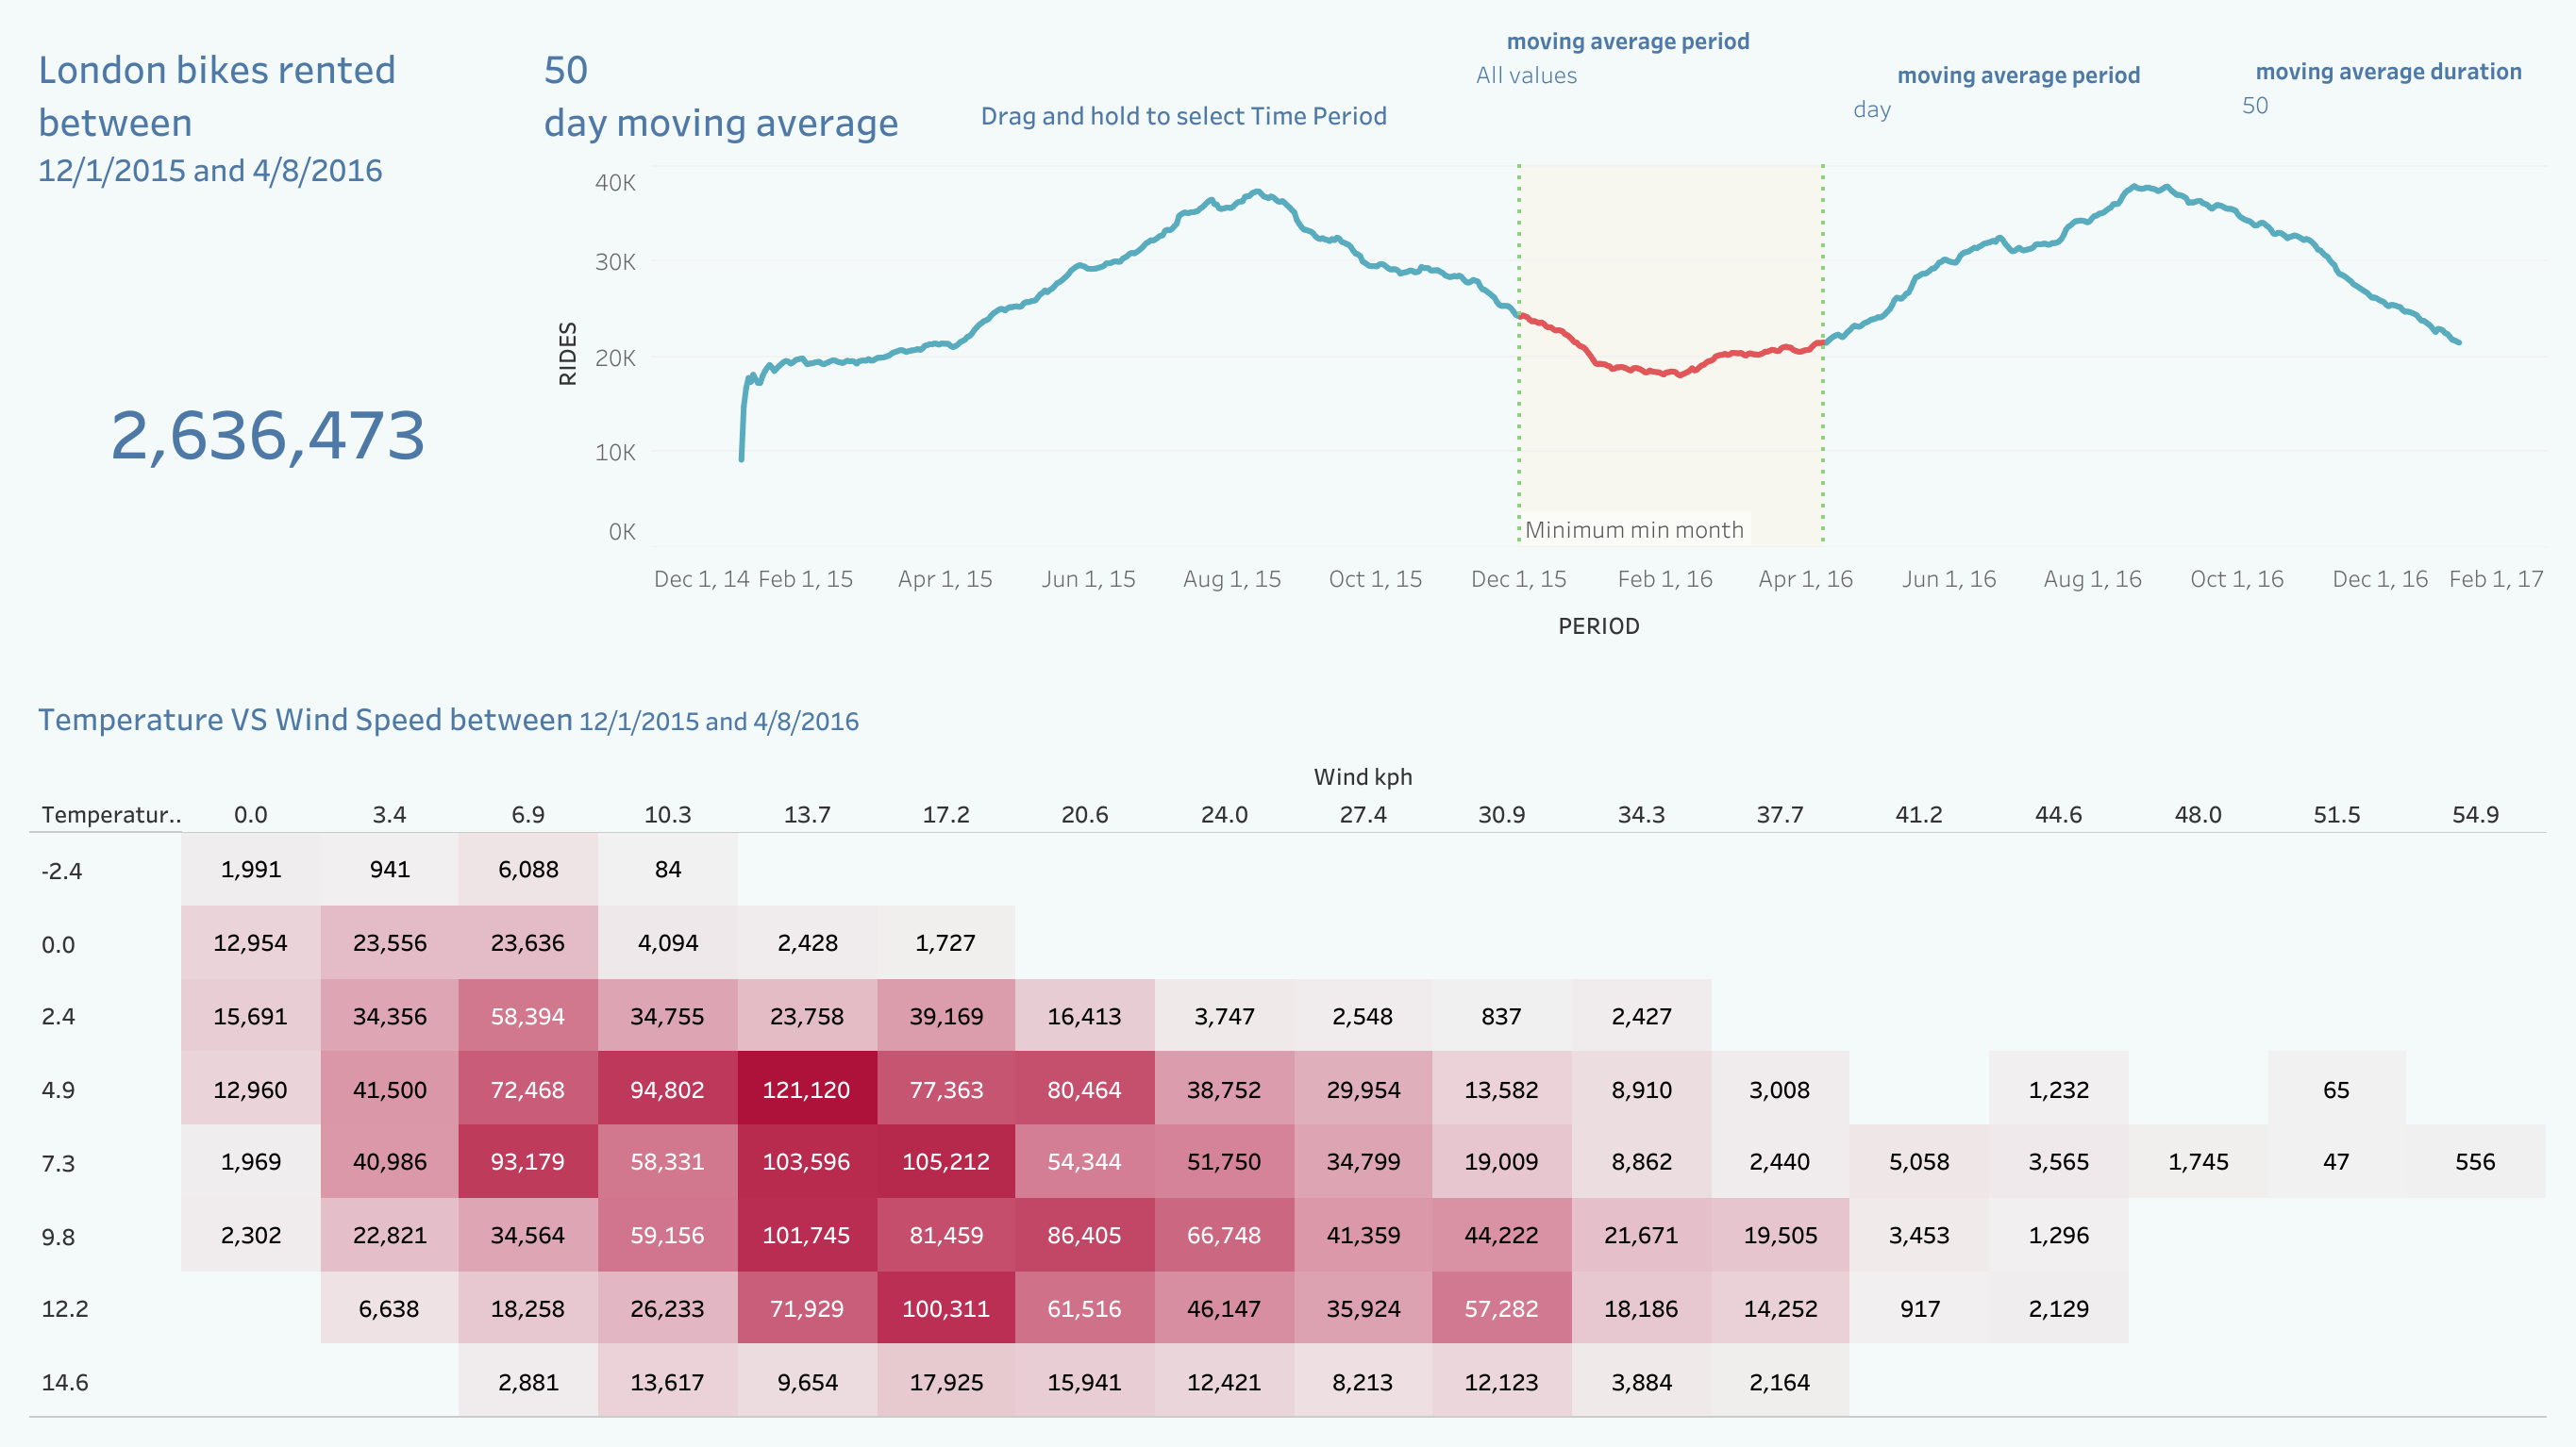

This screenshot's page, from the dashboard's own definition file:
{"tool":"tableau","page":{"name":"London Bike Rental","canvas":[1366,768],"ordinal":0},"visuals":[{"type":"worksheet","title":"Rides between Range","mark":"Automatic","box":[8,8,268,347]},{"type":"worksheet","title":"moving average","mark":"Automatic","rows":["Calculation1"],"cols":["Calculation_459859779698118656"],"box":[276,8,1082,347]},{"type":"filter","title":"moving average","param":"[federated.1sebzee0vtiiwm1946hqd0vj8j9f].[none:Calculation_459859779698118656:qk","box":[779,11,168,69]},{"type":"parameter","param":"[Parameters].[Parameter 2]","box":[1186,27,160,44]},{"type":"parameter","param":"[Parameters].[Parameter 1]","box":[980,29,180,43]},{"type":"text","box":[517,40,246,40]},{"type":"worksheet","title":"Heatmap","mark":"Square","rows":["Temperature (bin)"],"cols":["Wind Speed Kph (bin)"],"box":[8,355,1350,405]}]}

Visuals, with their boxes in screenshot pixels (x1, y1, x2, y2), scaled from the page's 1366x768 canvas onto the 2576x1447 screenshot:
"Rides between Range" worksheet: x1=15 y1=15 x2=521 y2=669
"moving average" worksheet: x1=521 y1=15 x2=2561 y2=669
"moving average" filter: x1=1469 y1=21 x2=1786 y2=151
parameter: x1=2236 y1=51 x2=2538 y2=134
parameter: x1=1848 y1=55 x2=2187 y2=136
text: x1=975 y1=75 x2=1439 y2=151
"Heatmap" worksheet (Square marks): x1=15 y1=669 x2=2561 y2=1432
